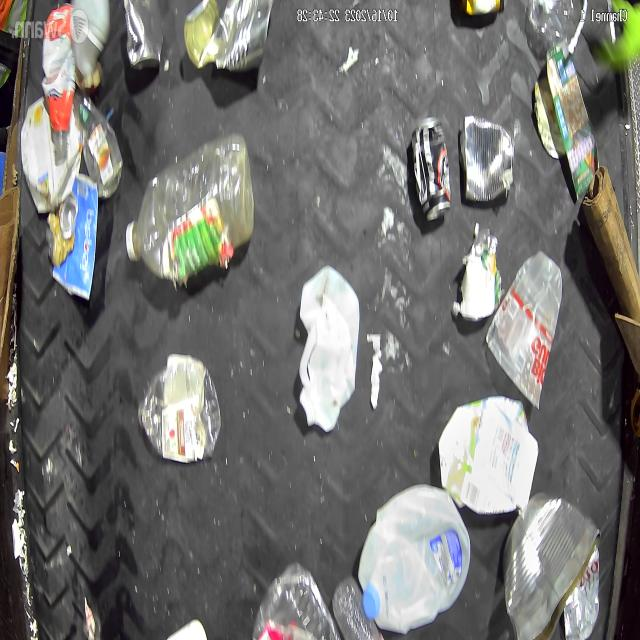can: (499, 491, 599, 637), (184, 1, 274, 72), (459, 117, 514, 206), (411, 115, 452, 221), (122, 0, 160, 74), (45, 195, 78, 268)
milk_jug: (358, 482, 470, 634), (299, 265, 360, 432)
non_white_jug: (438, 395, 538, 517), (21, 94, 82, 214)
plastic_bottle: (124, 136, 255, 284), (138, 352, 222, 462), (250, 561, 343, 640), (75, 94, 123, 199), (330, 576, 389, 640)
